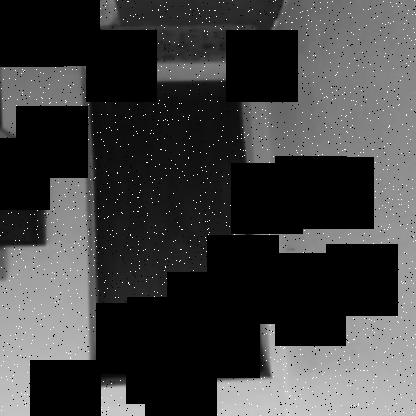Porte: (80, 61, 274, 391)
